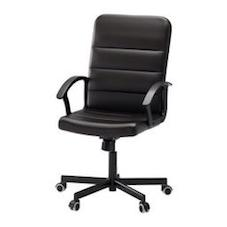chair: (12, 6, 213, 220)
